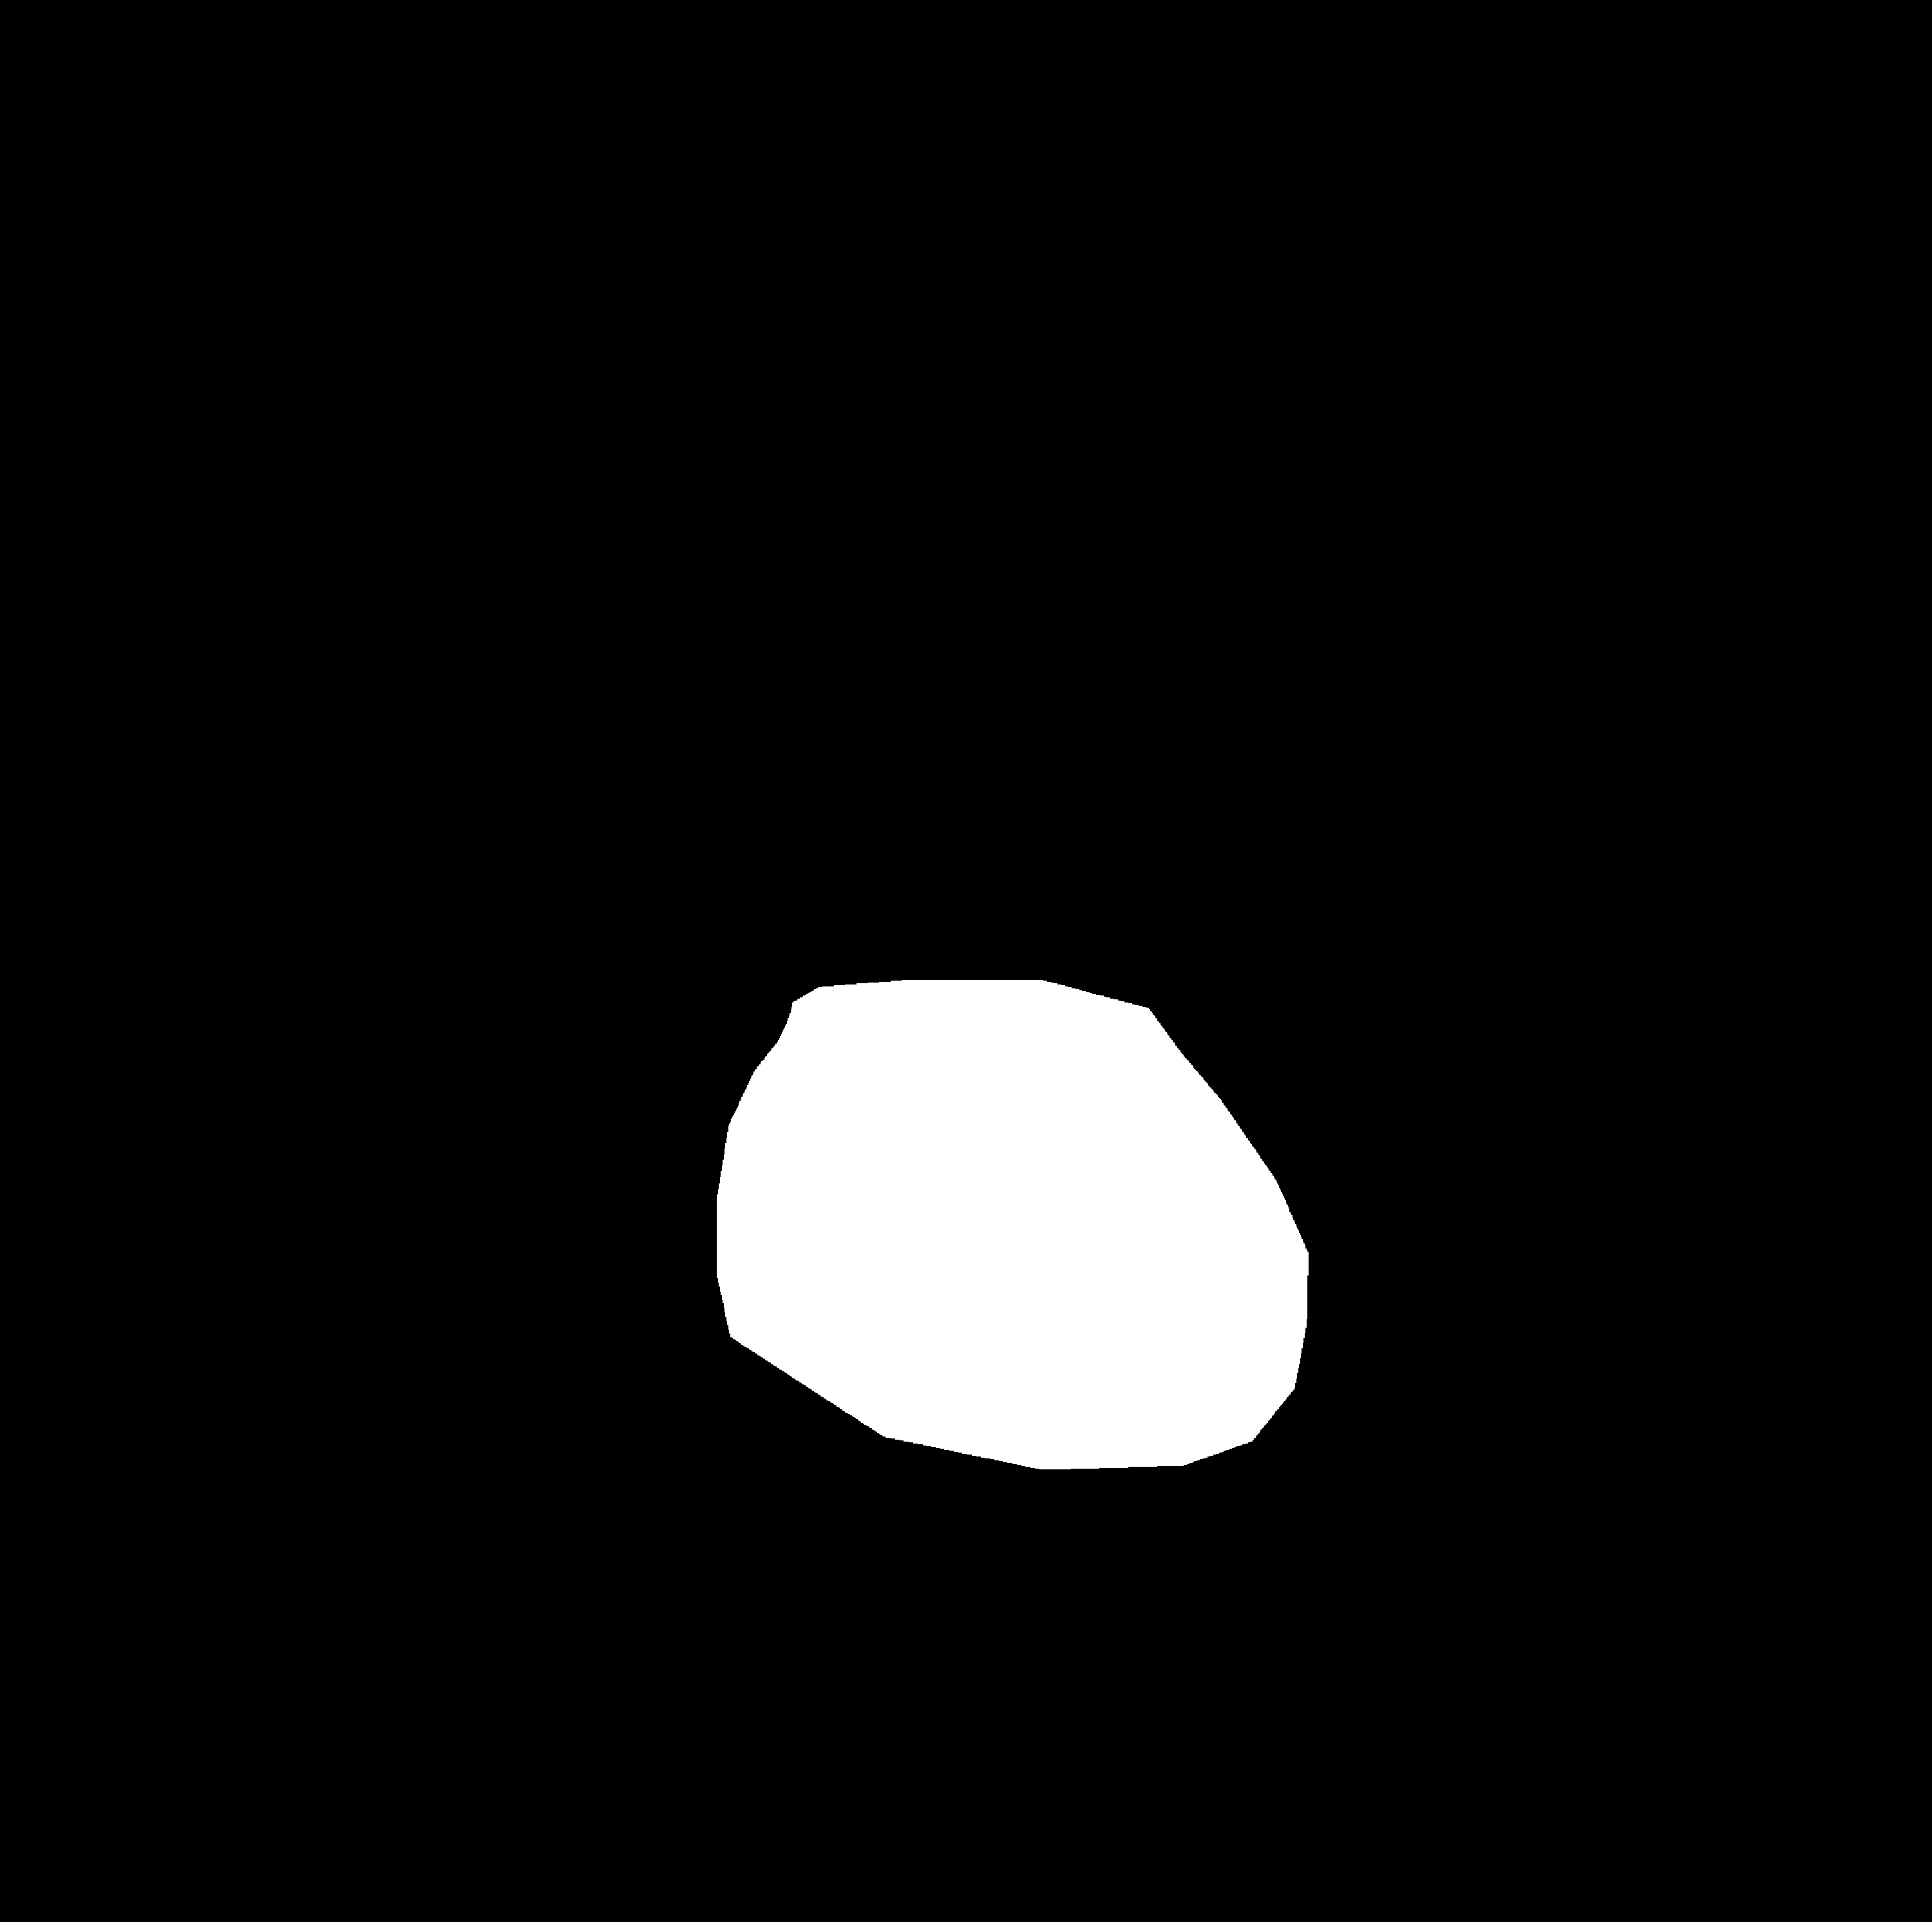heart: (726, 1033, 1310, 1466)
left_lung: (195, 268, 893, 1563)
right_lung: (1036, 310, 1573, 1640)
